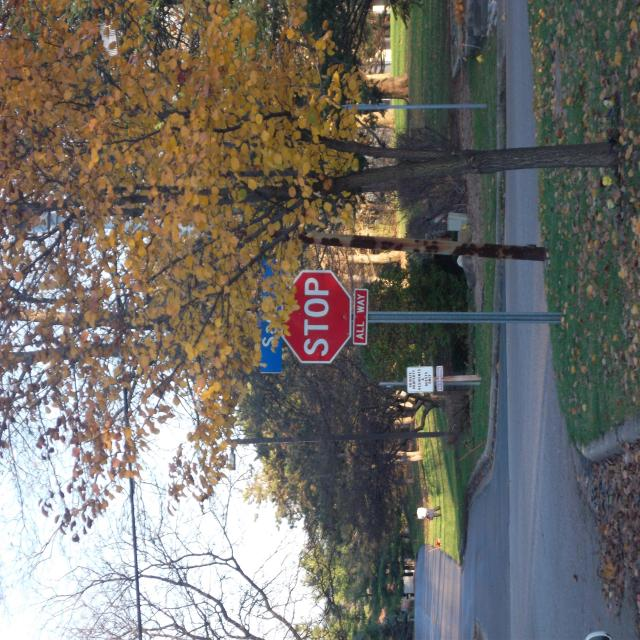regulatory: (348, 285, 374, 353), (403, 358, 437, 405)
stop: (278, 266, 353, 368)
